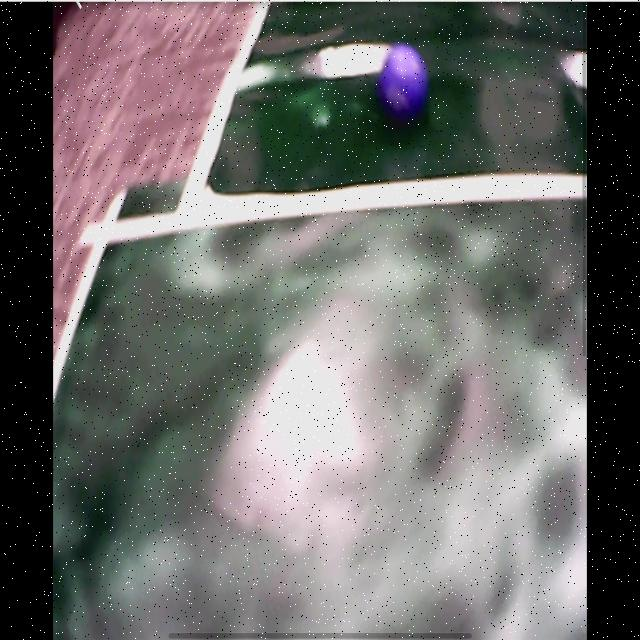ball: (383, 44, 426, 109)
